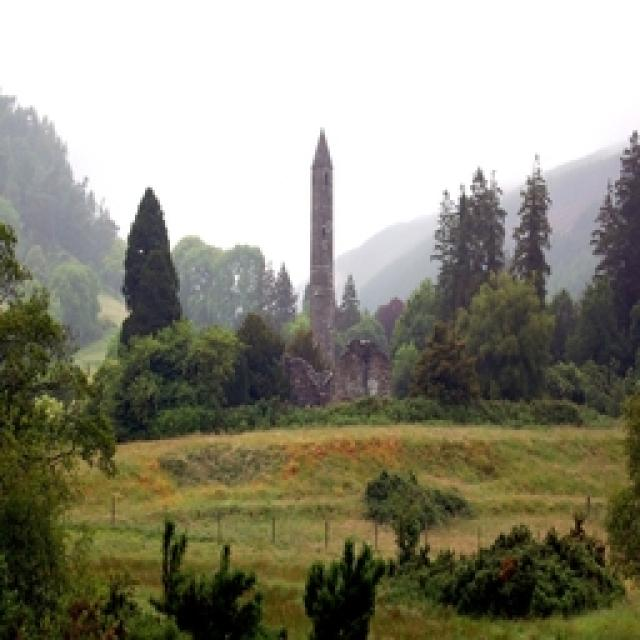Abbey: (298, 144, 358, 361)
